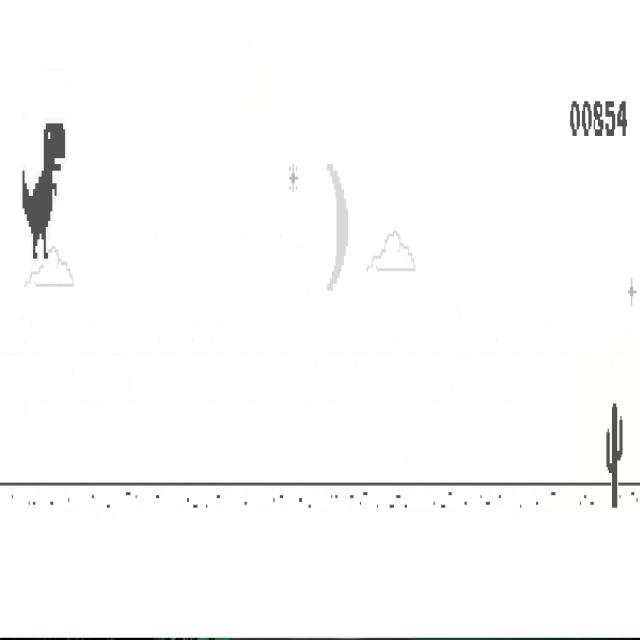cacto: (606, 401, 624, 510)
dino: (22, 120, 66, 260)
